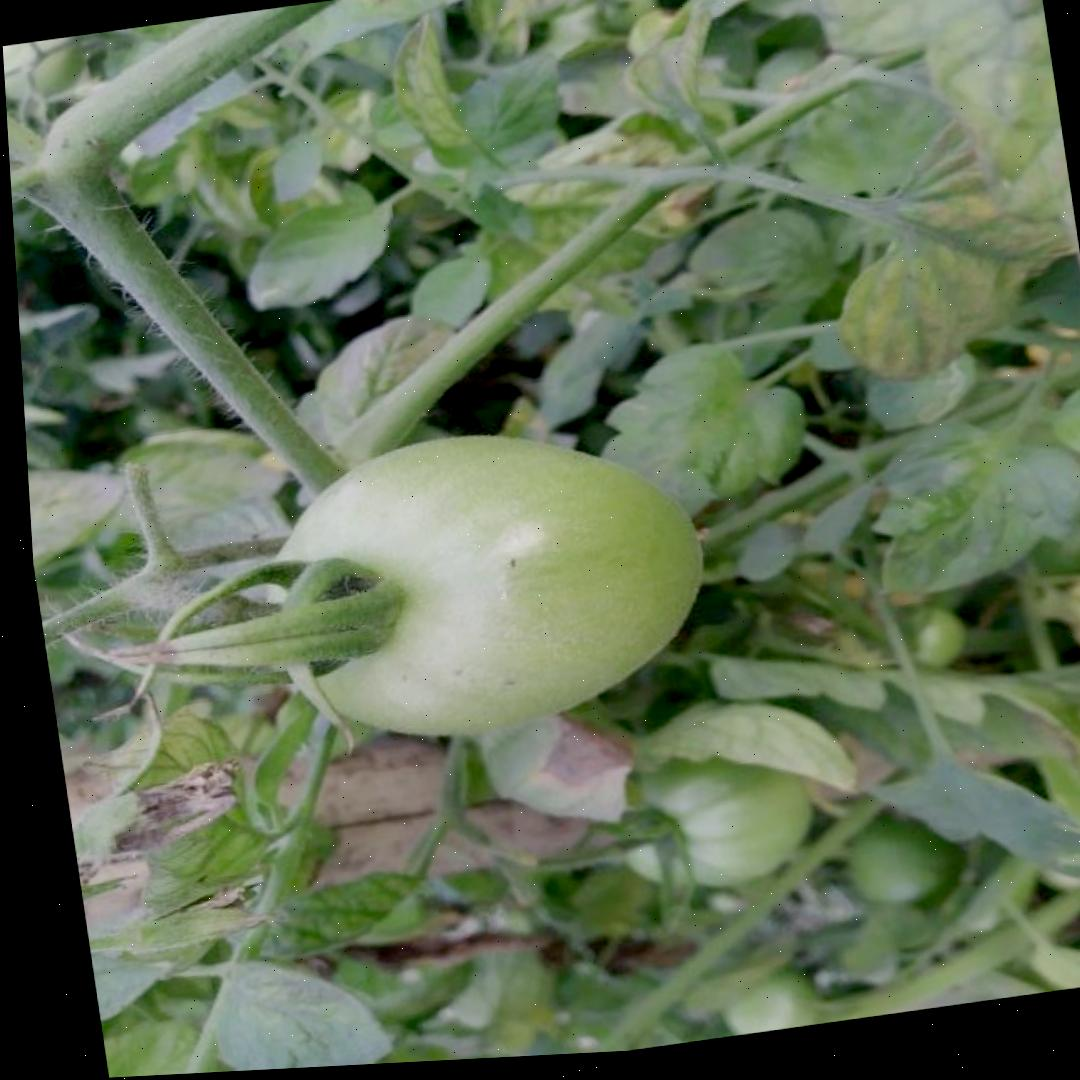mentah: (241, 401, 727, 763)
